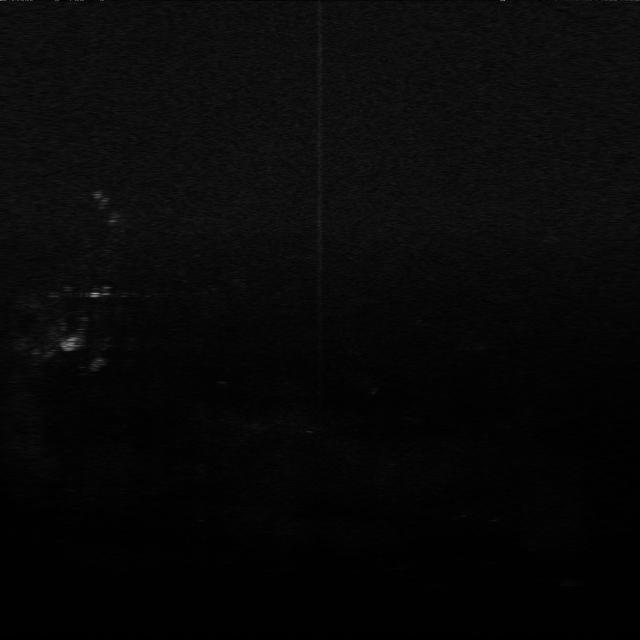rov: (59, 333, 82, 355)
